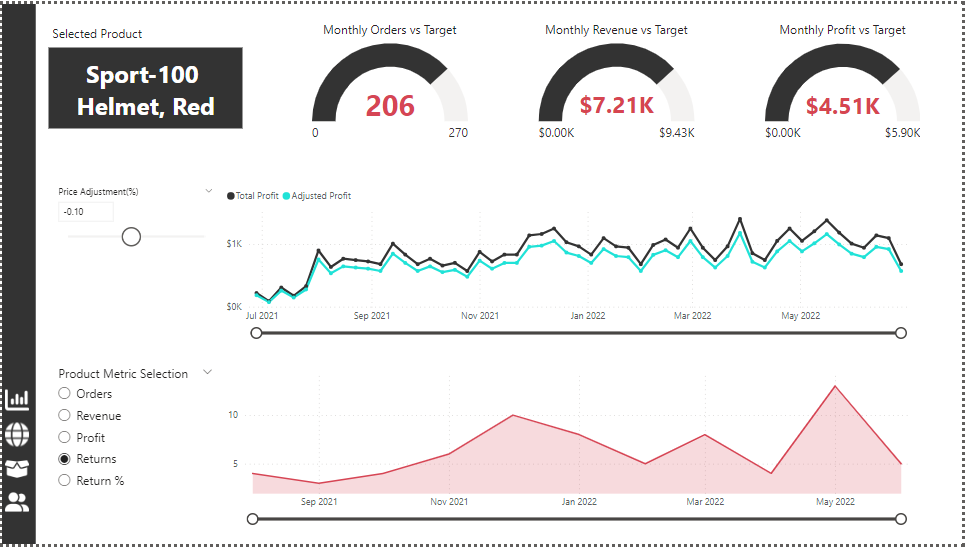

This screenshot's page, from the dashboard's own definition file:
{"tool":"powerbi","page":{"name":"Product Detail","canvas":[1280,720],"ordinal":2},"visuals":[{"type":"shape","box":[0,0,45,720.4],"z":0},{"type":"actionButton","box":[0,553.9,45.7,40],"z":0,"group":"g1"},{"type":"gauge","title":"Monthly Orders vs Target","fields":{"Y":["Measure Table.Total Orders"],"MaxValue":["Measure Table.Order Target"]},"box":[408.1,22,218,174],"z":1000},{"type":"actionButton","box":[0.1,599.4,45,40],"z":1000,"group":"g1"},{"type":"gauge","title":"Monthly Revenue vs Target","fields":{"Y":["Measure Table.Total Revenue"],"MaxValue":["Measure Table.Revenue Target"]},"box":[709.8,22,218,174],"z":2000},{"type":"actionButton","box":[0.1,645,45,40],"z":2000,"group":"g1"},{"type":"gauge","title":"Monthly Profit vs Target","fields":{"Y":["Measure Table.Total Profit"],"MaxValue":["Measure Table.Profit Target"]},"box":[1011.5,22.4,217.1,174.5],"z":3000},{"type":"actionButton","box":[0.1,508.3,45,40],"z":3000,"group":"g1"},{"type":"lineChart","title":"Profit Trending","fields":{"Category":["Calendar Lookup.Date Hierarchy.Year","Calendar Lookup.Date Hierarchy.Start of Month","Calendar Lookup.Date Hierarchy.Start of Week","Calendar Lookup.Date Hierarchy.Date"],"Y":["Measure Table.Total Profit","Measure Table.Adjusted Profit"]},"box":[293.3,235.6,935.6,213.3],"z":4000},{"type":"areaChart","title":"Return Trending","fields":{"Y":["Measure Table.Total Returns"],"Category":["Calendar Lookup.Date Hierarchy.Year","Calendar Lookup.Date Hierarchy.Start of Month","Calendar Lookup.Date Hierarchy.Start of Week","Calendar Lookup.Date Hierarchy.Date"]},"box":[293.3,482.2,935.6,215.6],"z":5000},{"type":"card","fields":{"Values":["Min(Product Lookup.ProductName)"]},"box":[62.1,58.9,258.4,107.9],"z":6000},{"type":"textbox","box":[62.8,21.9,208.8,36.5],"z":7000},{"type":"group","id":"g1","title":"Navigation Buttons","box":[0,508.3,45.7,176.7],"z":8000},{"type":"slicer","fields":{"Values":["Price Adjustment(%).Price Adjustment(%)"]},"box":[62.2,235.6,231.1,124.4],"z":9000},{"type":"slicer","fields":{"Values":["Product Metric Selection.Product Metric Selection"]},"box":[62.2,475.6,231.1,222.2],"z":10000}]}

Visuals, with their boxes on the page's 1280x720 design canvas (x1, y1, x2, y2). These are canvas units, not pixel positions in the 966x549 screenshot, which may show the page scaled, cropped or inside an application window:
shape: crop(0, 0, 45, 720)
actionButton: crop(0, 554, 46, 594)
"Monthly Orders vs Target" gauge: crop(408, 22, 626, 196)
actionButton: crop(0, 599, 45, 639)
"Monthly Revenue vs Target" gauge: crop(710, 22, 928, 196)
actionButton: crop(0, 645, 45, 685)
"Monthly Profit vs Target" gauge: crop(1012, 22, 1229, 197)
actionButton: crop(0, 508, 45, 548)
"Profit Trending" lineChart: crop(293, 236, 1229, 449)
"Return Trending" areaChart: crop(293, 482, 1229, 698)
card - Min(Product Lookup.ProductName): crop(62, 59, 320, 167)
textbox: crop(63, 22, 272, 58)
"Navigation Buttons" group: crop(0, 508, 46, 685)
slicer - Price Adjustment(%).Price Adjustment(%): crop(62, 236, 293, 360)
slicer - Product Metric Selection.Product Metric Selection: crop(62, 476, 293, 698)
